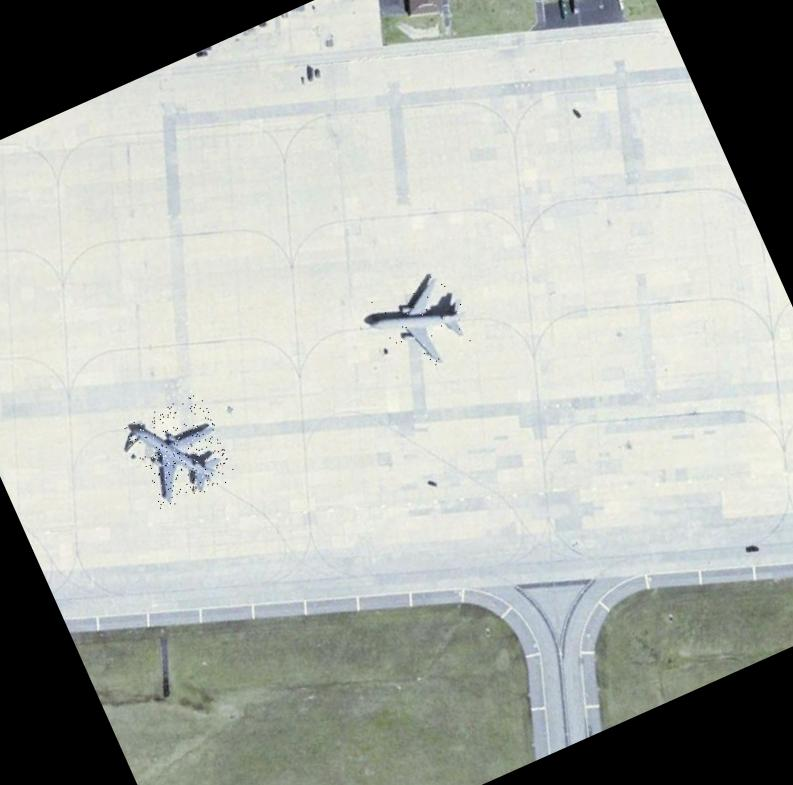A18: (358, 268, 481, 386), (122, 391, 238, 511)
